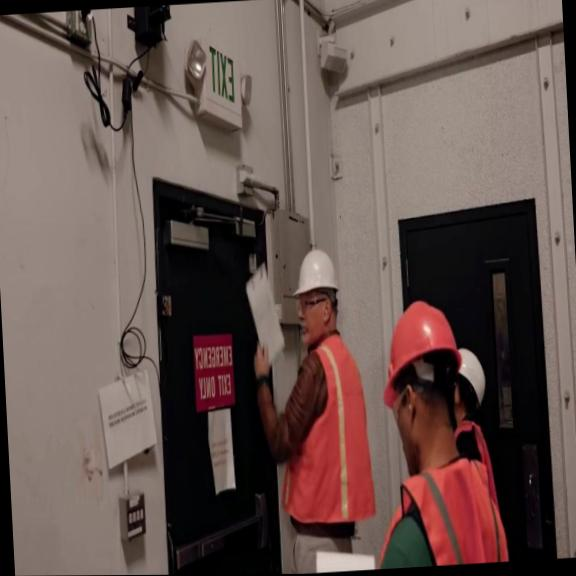safety_vest: (270, 327, 377, 526), (371, 453, 508, 569), (452, 415, 500, 509)
